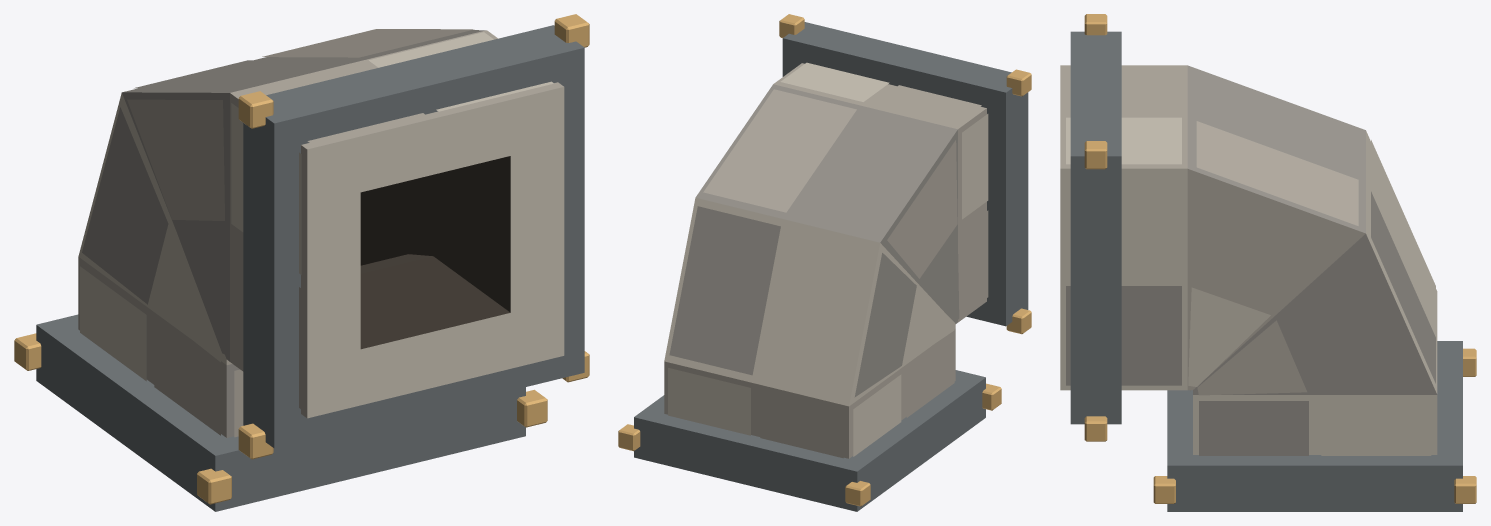
File: chimney_elbow.gltf
3 renders of one model, left to right at view 1: azimuth 30°, elevation 25°; view 2: azimuth 150°, elevation 25°; view 3: azimuth 270°, elevation 25°, orthographic. The views are drawn at different scales.
Bounding box in the file's own units: 0.634 × 0.817 × 0.817.
